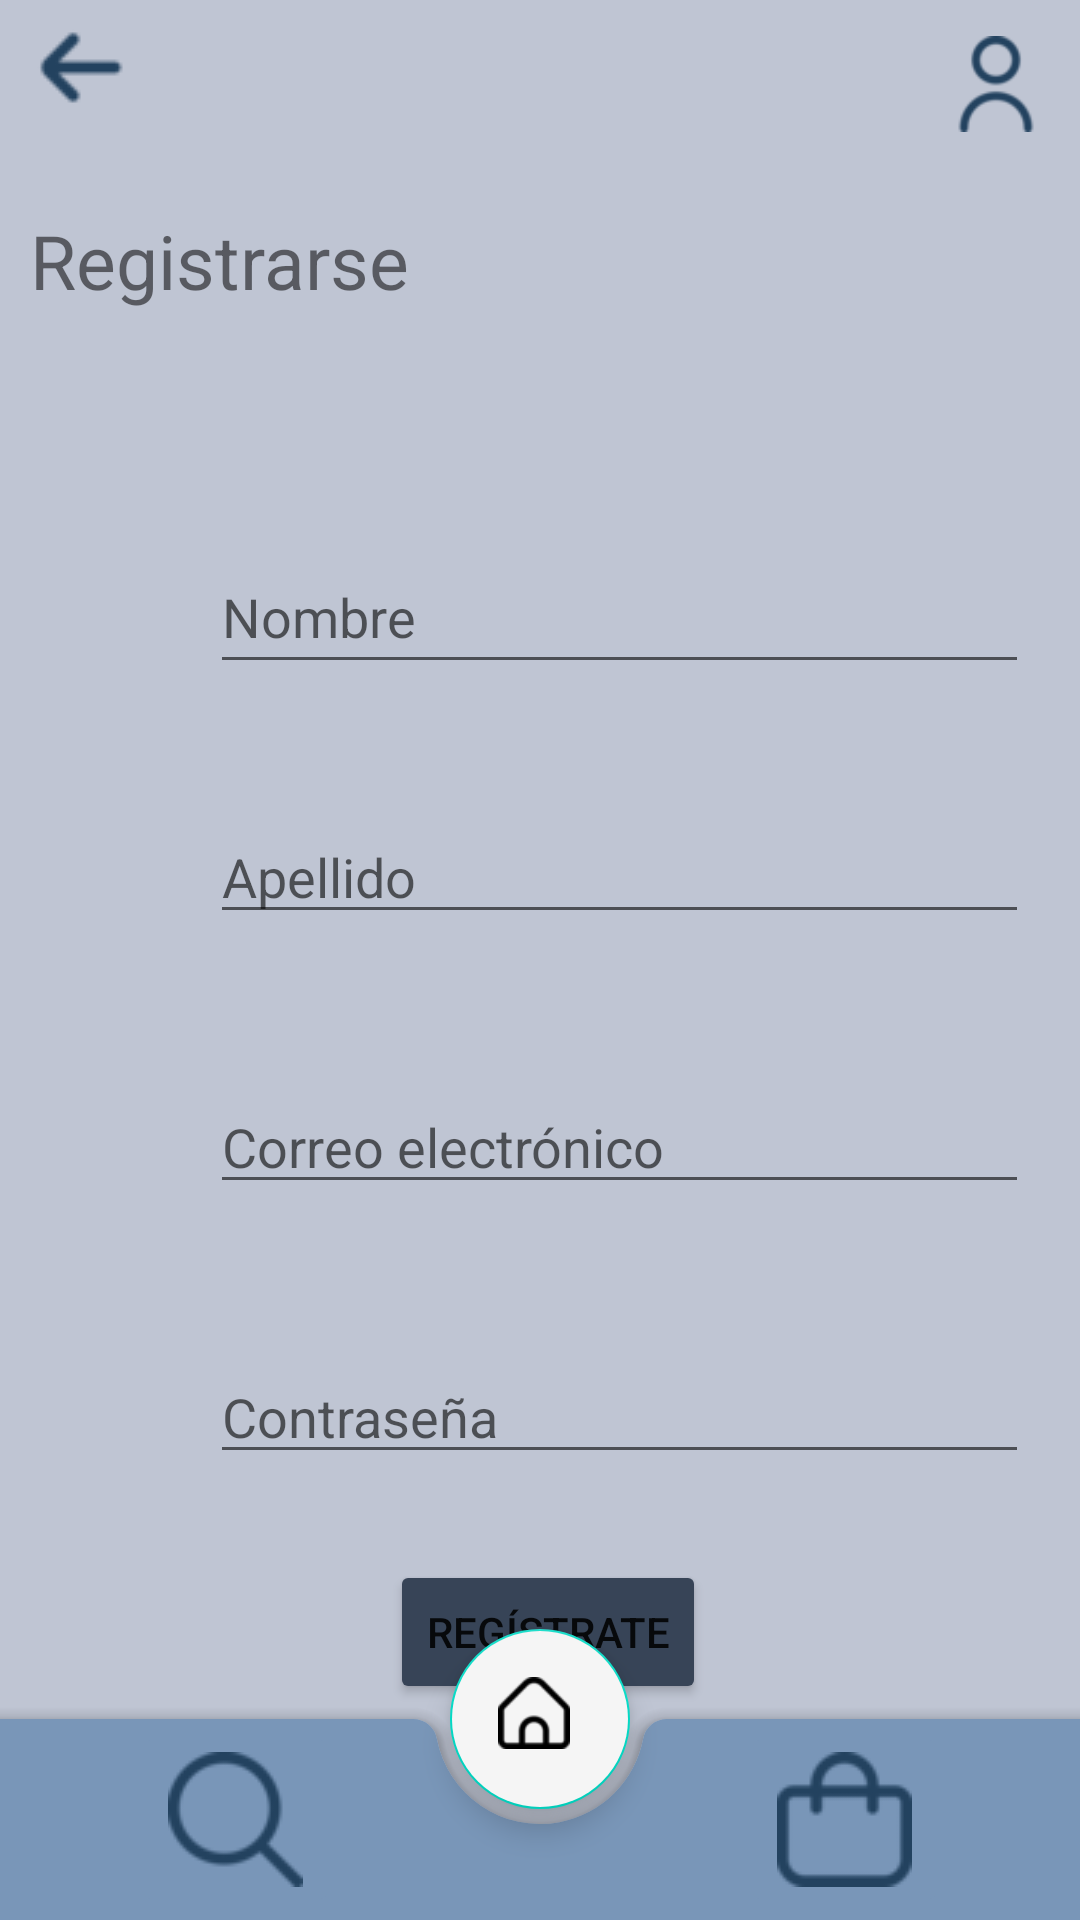

Icons on this 1080w x 1920h Android screen, each with the point to tap as (x=x, y=y):
back: (x=81, y=67)
store: (x=844, y=1819)
